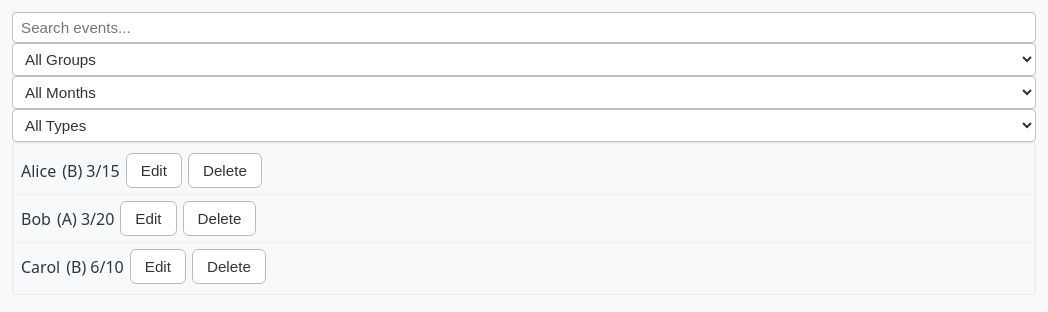
Scenario: EventList › search box filters visible events by name
Type "ali" into the field with placeholder "Search events..." at (524, 28), box [12,12,1036,43]
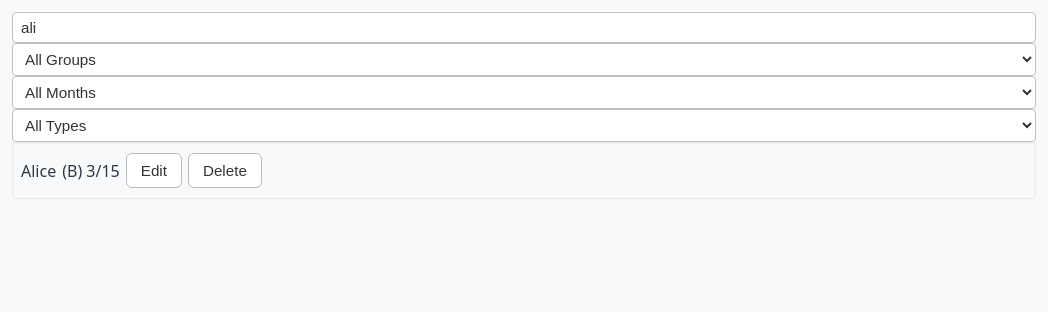
Expected: the text "Alice" is shown, [21,158,56,182]
Now the text "Bob" is gone
Now the text "Carol" is gone
